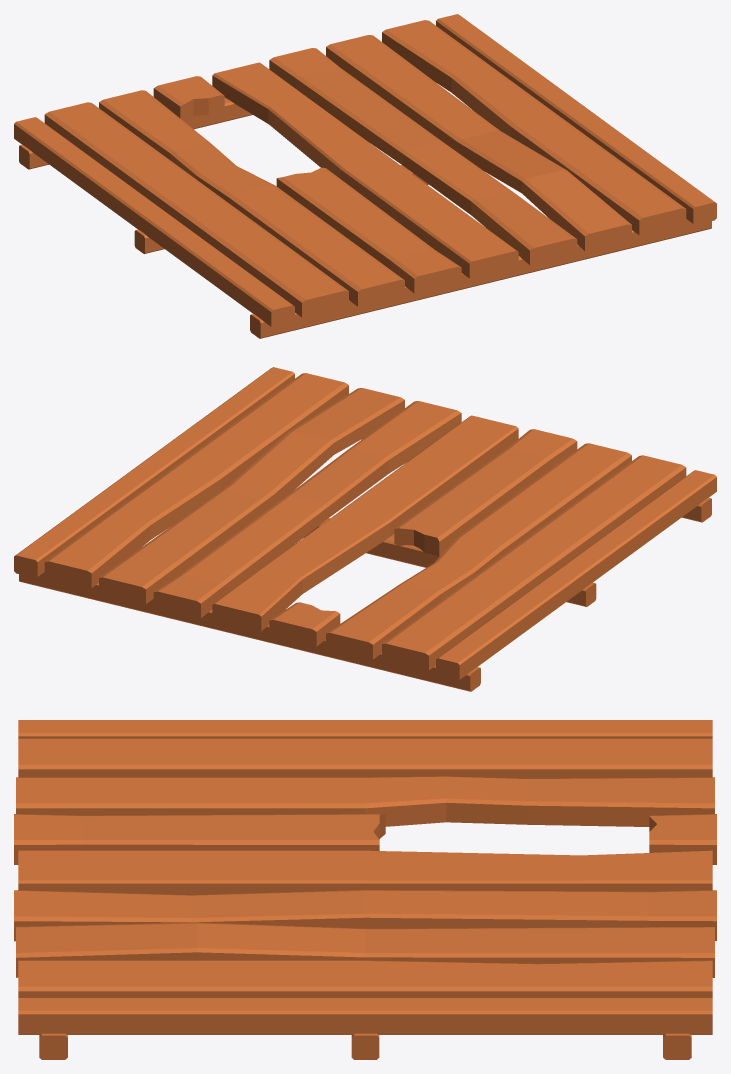
File: Wood Floor 5.glb
3 renders of one model, top to bottom at view 1: azimuth 30°, elevation 25°; view 2: azimuth 150°, elevation 25°; view 3: azimuth 270°, elevation 25°, orthographic. The views are drawn at different scales.
Parts seen in each view (by area): view 1: WoodFloor5; view 2: WoodFloor5; view 3: WoodFloor5.
Boxes of the visible parts, x1,y1,x2,y2 form: WoodFloor5: (14, 14, 716, 338); WoodFloor5: (14, 367, 716, 691); WoodFloor5: (14, 720, 716, 1059).
Size of the model in its own units: 2 by 0.1641 by 2.
